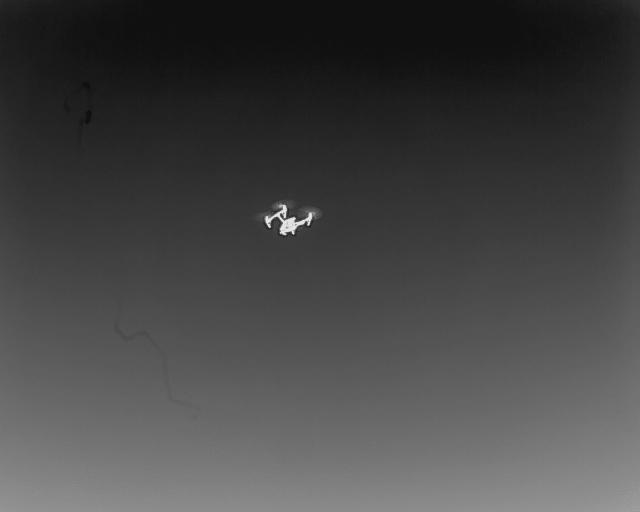drone: (253, 194, 325, 242)
